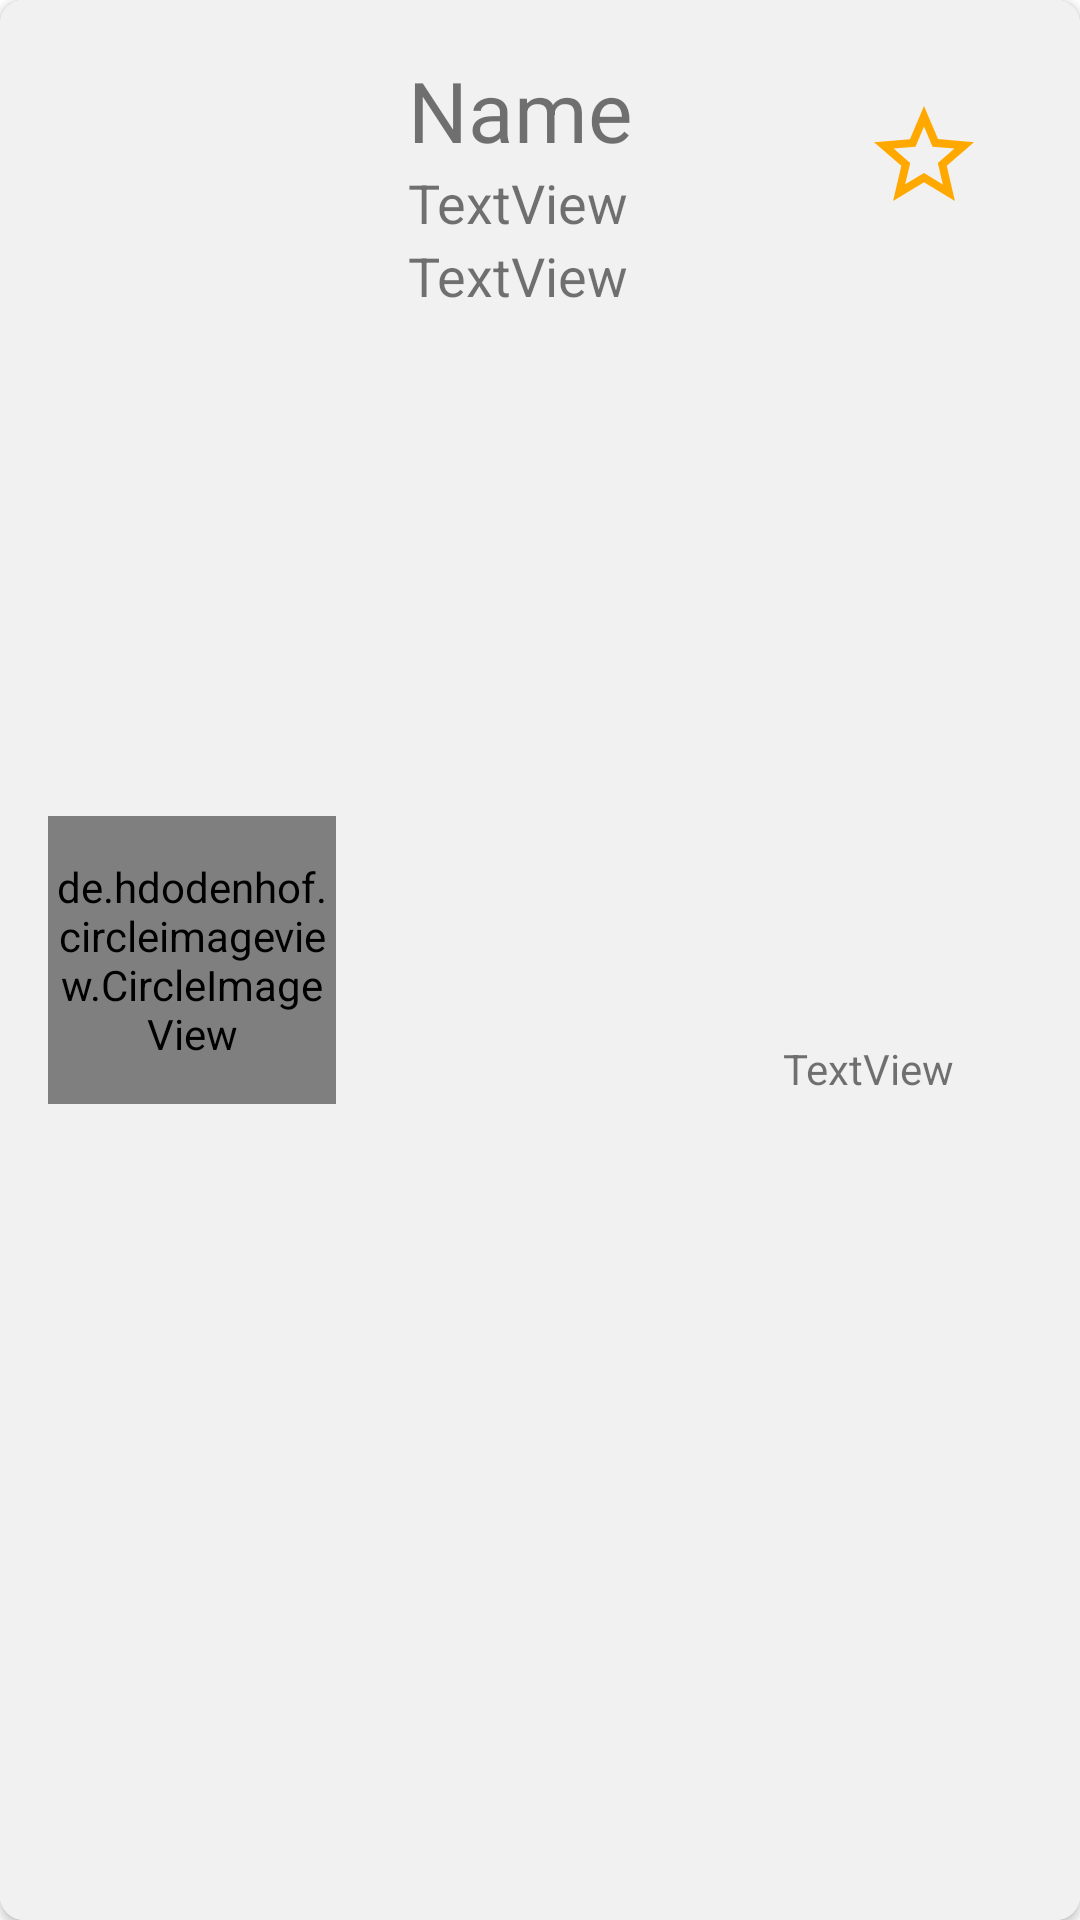

Named icons in this screenshot (1080w x 1920h) and their bounding boxes, [left=x1, top=y1, right=x2, bottom=y2]:
star empty: [left=874, top=106, right=974, bottom=201]
